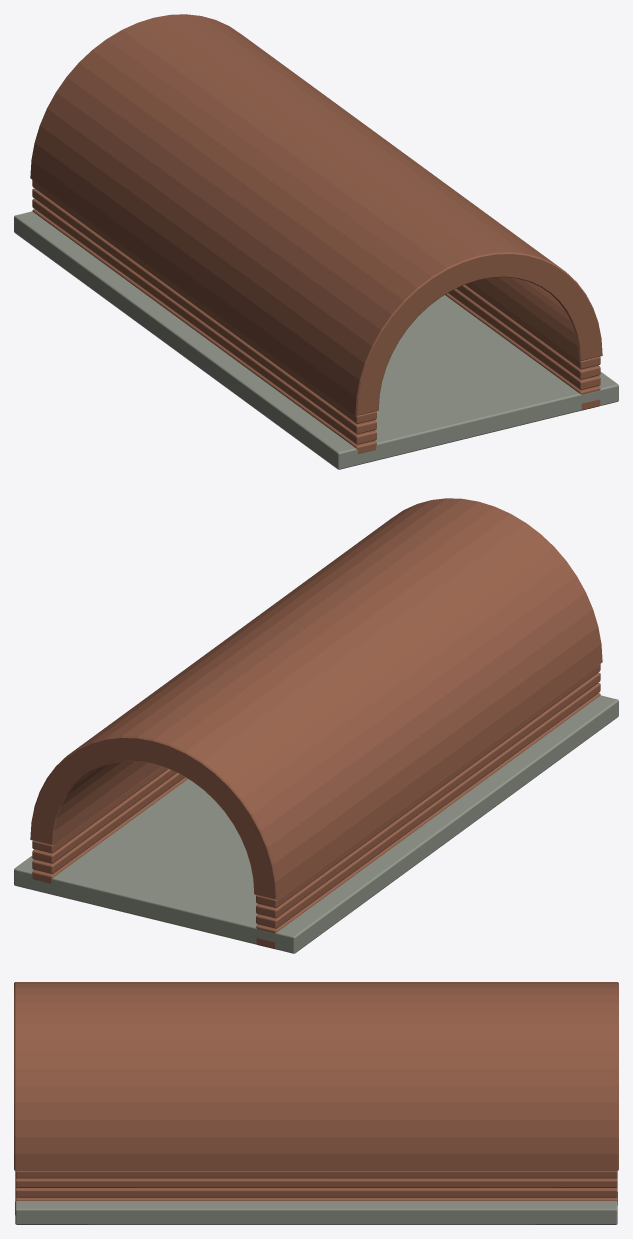
The picture shows the model from 3 angles, top to bottom: view 1: azimuth 30°, elevation 25°; view 2: azimuth 150°, elevation 25°; view 3: azimuth 270°, elevation 25°; orthographic projection. The views are drawn at different scales.
Visible parts, largest first — view 1: crawl-tunnel; view 2: crawl-tunnel; view 3: crawl-tunnel.
Part boxes in pixels (box(x1,y1,x2,y2)): crawl-tunnel: box(14, 14, 618, 469); crawl-tunnel: box(14, 498, 618, 953); crawl-tunnel: box(14, 982, 618, 1224).
Bounding box in the file's own units: 2 × 1.23 × 4.02.
